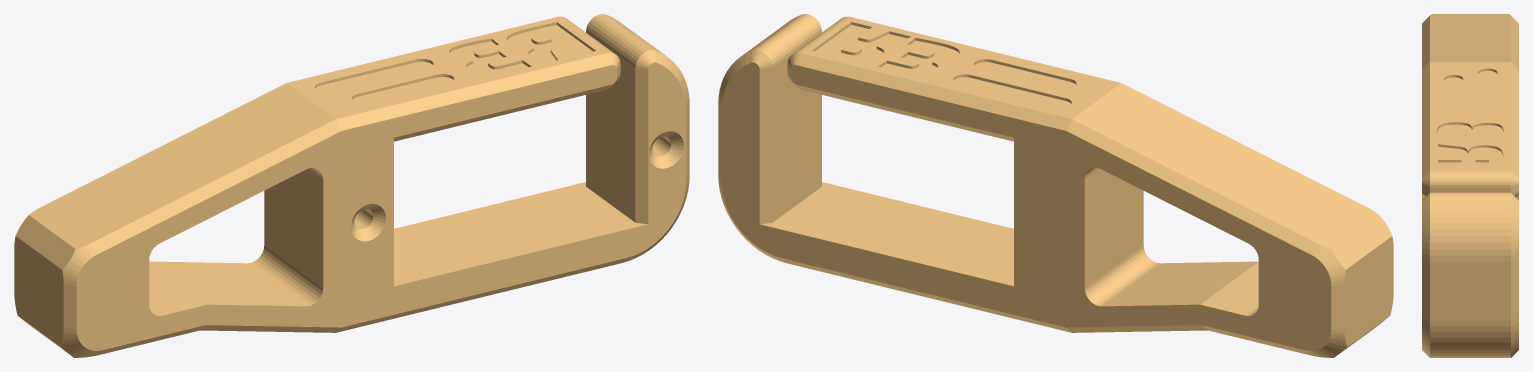
Rendered from foot_r3.glb.
3 renders of one model, left to right at view 1: azimuth 30°, elevation 25°; view 2: azimuth 150°, elevation 25°; view 3: azimuth 270°, elevation 25°, orthographic. The views are drawn at different scales.
Visible parts, largest first — view 1: geometry_0; view 2: geometry_0; view 3: geometry_0.
Boxes of the visible parts, bbox=[...] form: geometry_0: bbox=[14, 14, 689, 357]; geometry_0: bbox=[718, 14, 1393, 357]; geometry_0: bbox=[1422, 14, 1518, 357].
Bounding box in the file's own units: 0.0584 × 0.019 × 0.00953.
